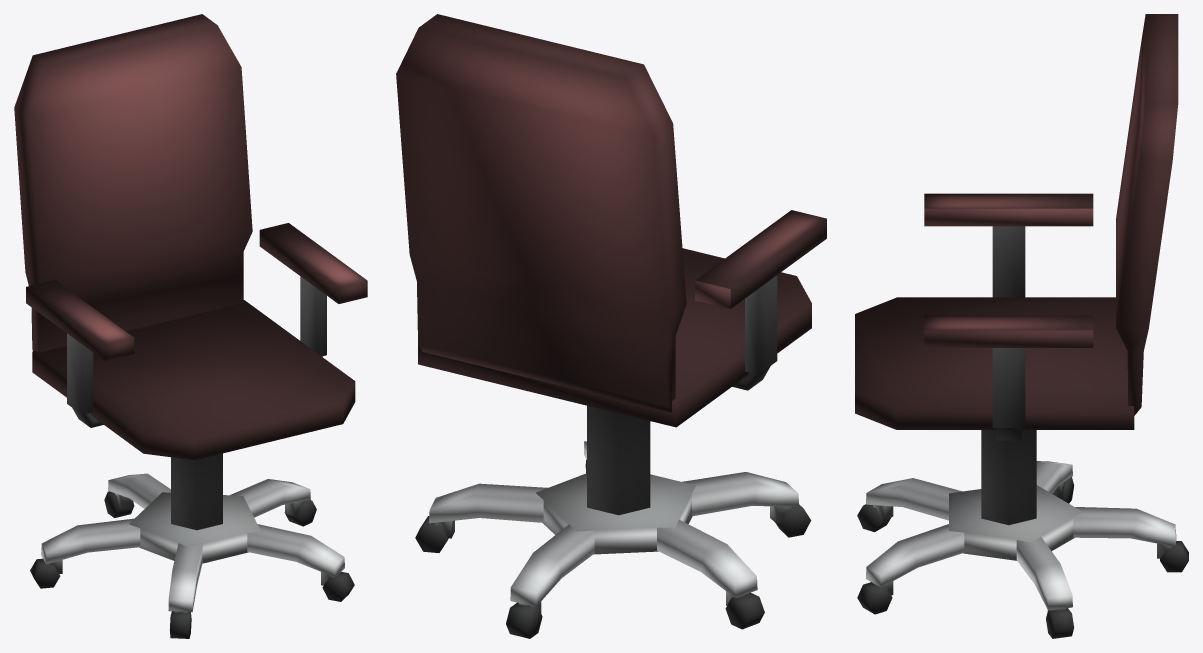
Rendered from Chair_Office_Red.fbx.
The picture shows the model from 3 angles, left to right: view 1: azimuth 30°, elevation 25°; view 2: azimuth 150°, elevation 25°; view 3: azimuth 270°, elevation 25°; orthographic projection. The views are drawn at different scales.
Parts seen in each view (by area): view 1: Chair_Office_Red; view 2: Chair_Office_Red; view 3: Chair_Office_Red.
Boxes of the visible parts, x1,y1,x2,y2 form: Chair_Office_Red: (14, 14, 367, 638); Chair_Office_Red: (396, 14, 826, 638); Chair_Office_Red: (855, 14, 1188, 638).
Size of the model in its own units: 61.92 by 99.87 by 59.28.
